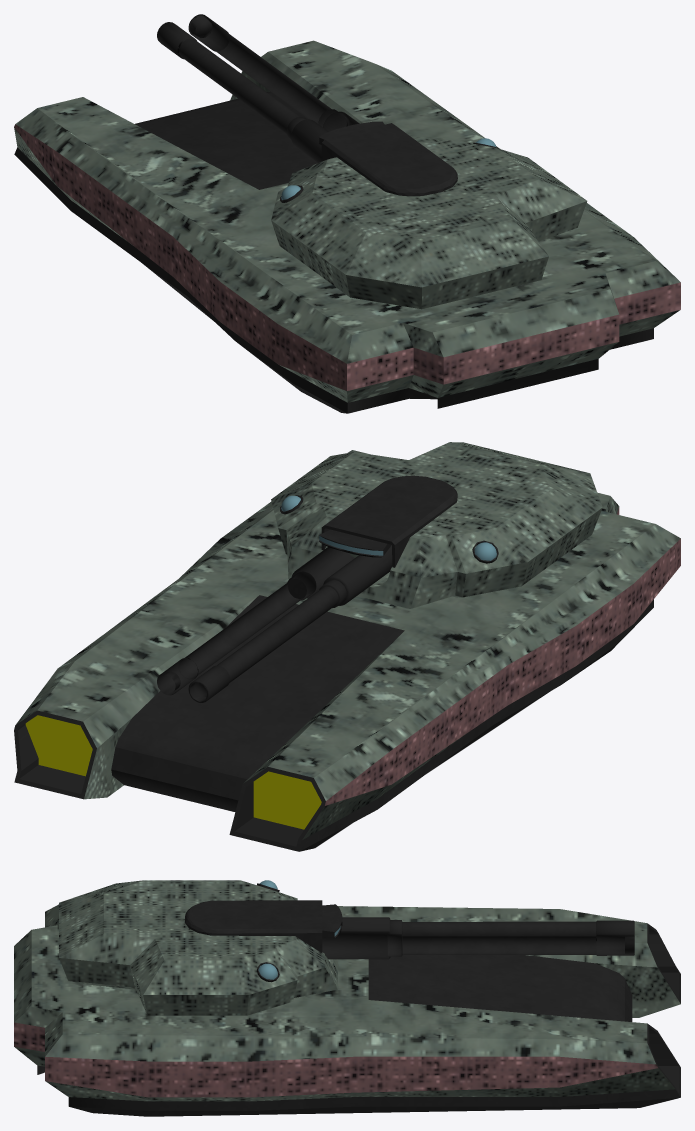
File: heavy.glb
3 renders of one model, top to bottom at view 1: azimuth 30°, elevation 25°; view 2: azimuth 150°, elevation 25°; view 3: azimuth 270°, elevation 25°, orthographic. The views are drawn at different scales.
Visible parts, largest first — view 1: Hull, Turret, Barrel.001; view 2: Hull, Turret, Barrel.001; view 3: Hull, Turret, Barrel.001.
Part boxes in pixels (x1,y1,x2,y2): Hull: (14,40,680,413); Turret: (271,121,587,309); Barrel.001: (157,14,359,162); Hull: (14,450,680,851); Turret: (271,442,602,608); Barrel.001: (157,545,392,703); Hull: (14,904,680,1116); Turret: (59,880,342,1015); Barrel.001: (322,917,634,959).
Size of the model in its own units: 3.18 by 1.29 by 5.8.
1 material, 1 textured.
